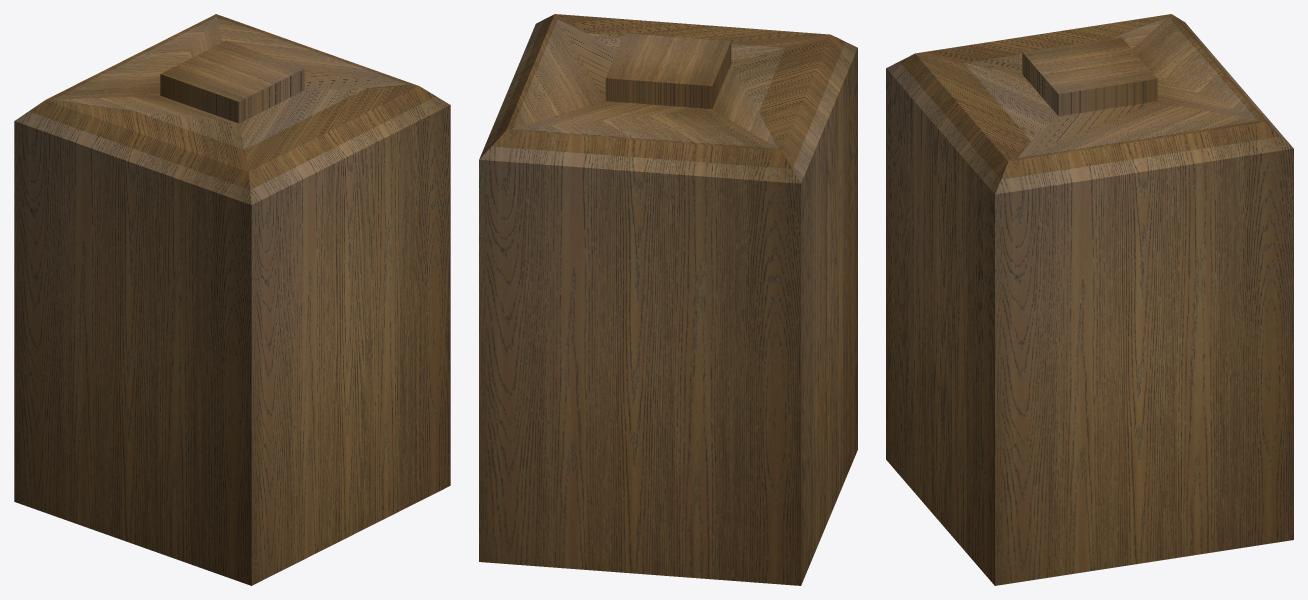
Rendered from Obstacle_052.obj.
The picture shows the model from 3 angles, left to right: view 1: azimuth 30°, elevation 25°; view 2: azimuth 150°, elevation 25°; view 3: azimuth 270°, elevation 25°; orthographic projection. The views are drawn at different scales.
Visible parts, largest first — view 1: Box144; view 2: Box144; view 3: Box144.
Part boxes in pixels (x1,y1,x2,y2): Box144: [14, 14, 450, 585]; Box144: [479, 14, 857, 585]; Box144: [886, 14, 1293, 585].
Bounding box in the file's own units: 35.32 × 41.5 × 35.32.
